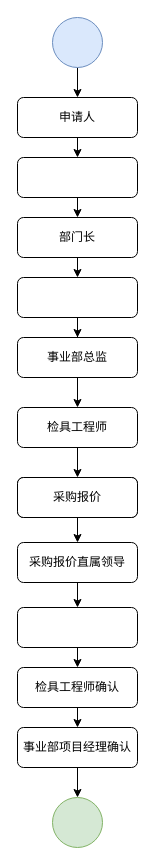
This 155x865 diagram has some shape labels left out. The centre of each missing label's shape, as x and y in pixels:
事业部总监确认: pixel 77 627
事业部项目经理: pixel 77 297
开始: pixel 77 42
直属领导: pixel 77 177
结束: pixel 77 822
